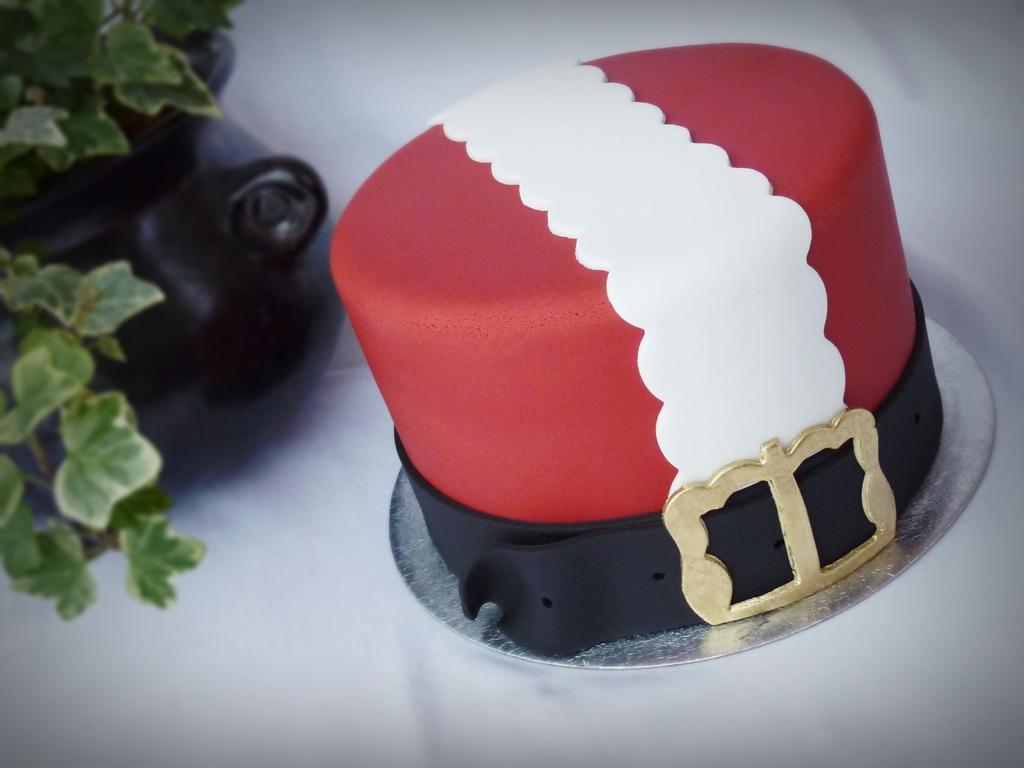Hat: (328, 40, 999, 669)
